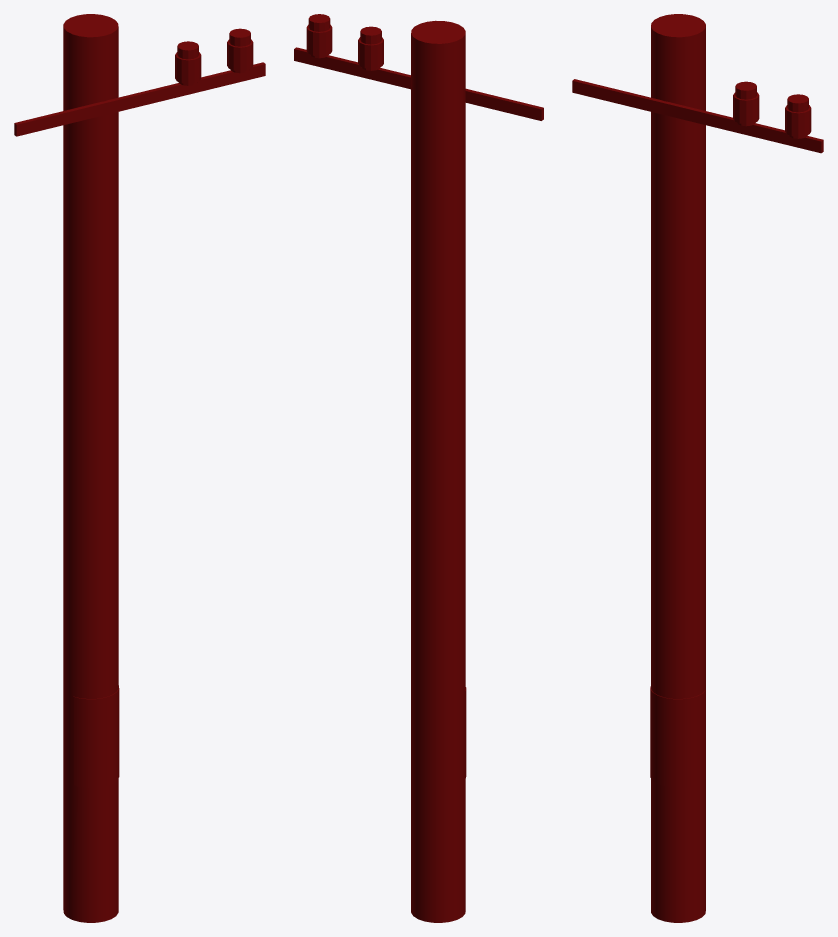
Rendered from Dentyuu_20.fbx.
3 views of the same model, side by side, from view 1: azimuth 30°, elevation 25°; view 2: azimuth 150°, elevation 25°; view 3: azimuth 330°, elevation 25° (orthographic).
Visible parts, largest first — view 1: Dentyuu_a1; view 2: Dentyuu_a1; view 3: Dentyuu_a1.
Part boxes in pixels (x1,y1,x2,y2): Dentyuu_a1: [14, 14, 265, 922]; Dentyuu_a1: [294, 14, 543, 922]; Dentyuu_a1: [572, 14, 823, 922].
Bounding box in the file's own units: 440 × 1493 × 107.
